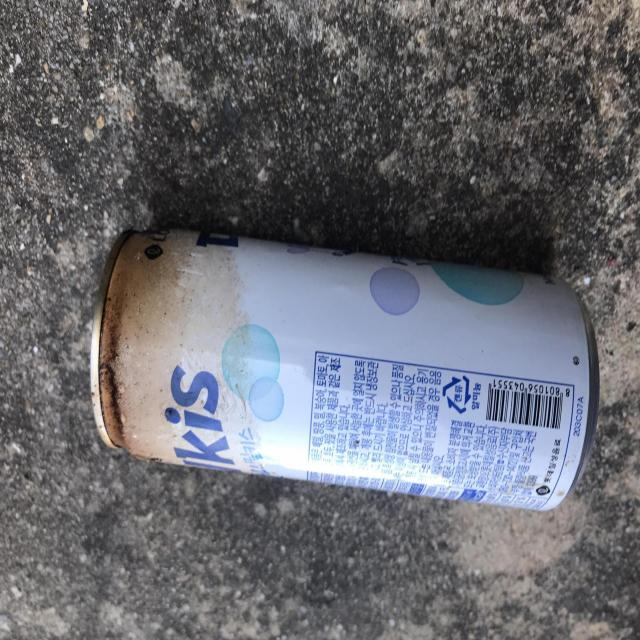can: (90, 229, 600, 511)
